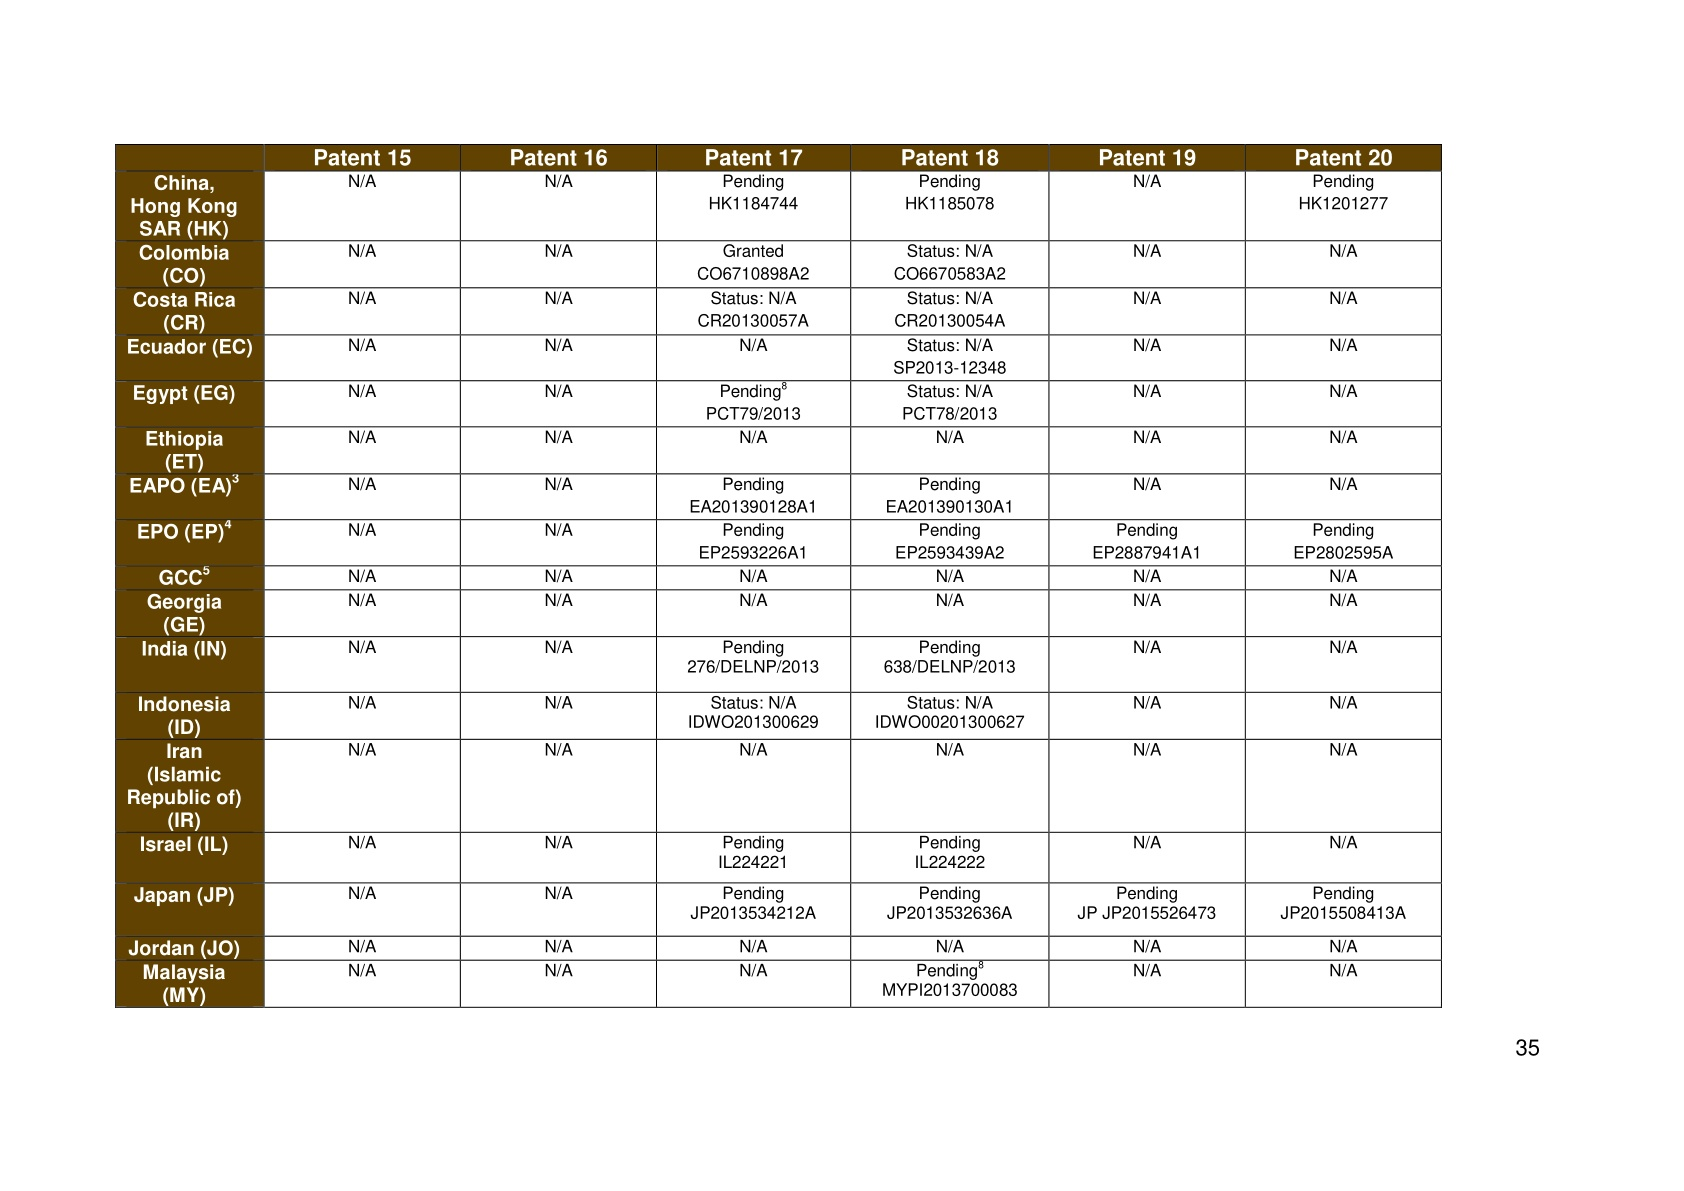full_lined: (115, 143, 1442, 1008)
